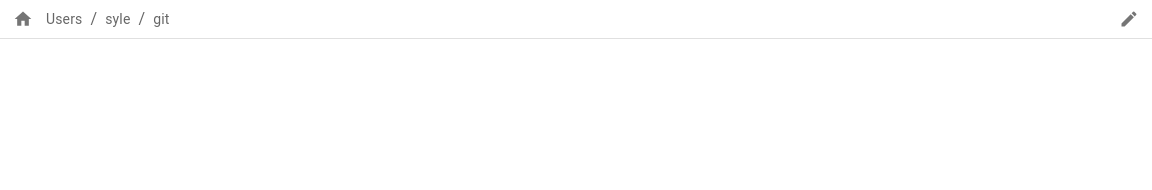
PathBar — extras › Right-click on a segment opens the segment menu
Right-click the button "syle": [118, 20] box top-left (105, 9), bottom-right (130, 30)
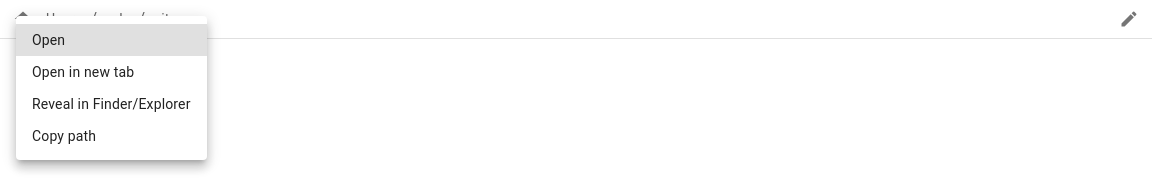
expect the menu item "Open in new tab" is shown: met, box top-left (32, 64), bottom-right (134, 80)
